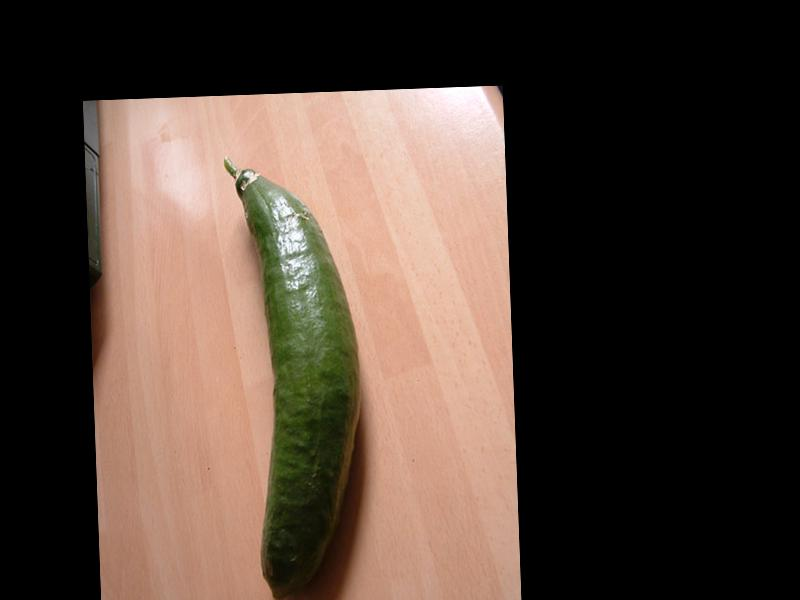Cucumber: (224, 152, 370, 600)
